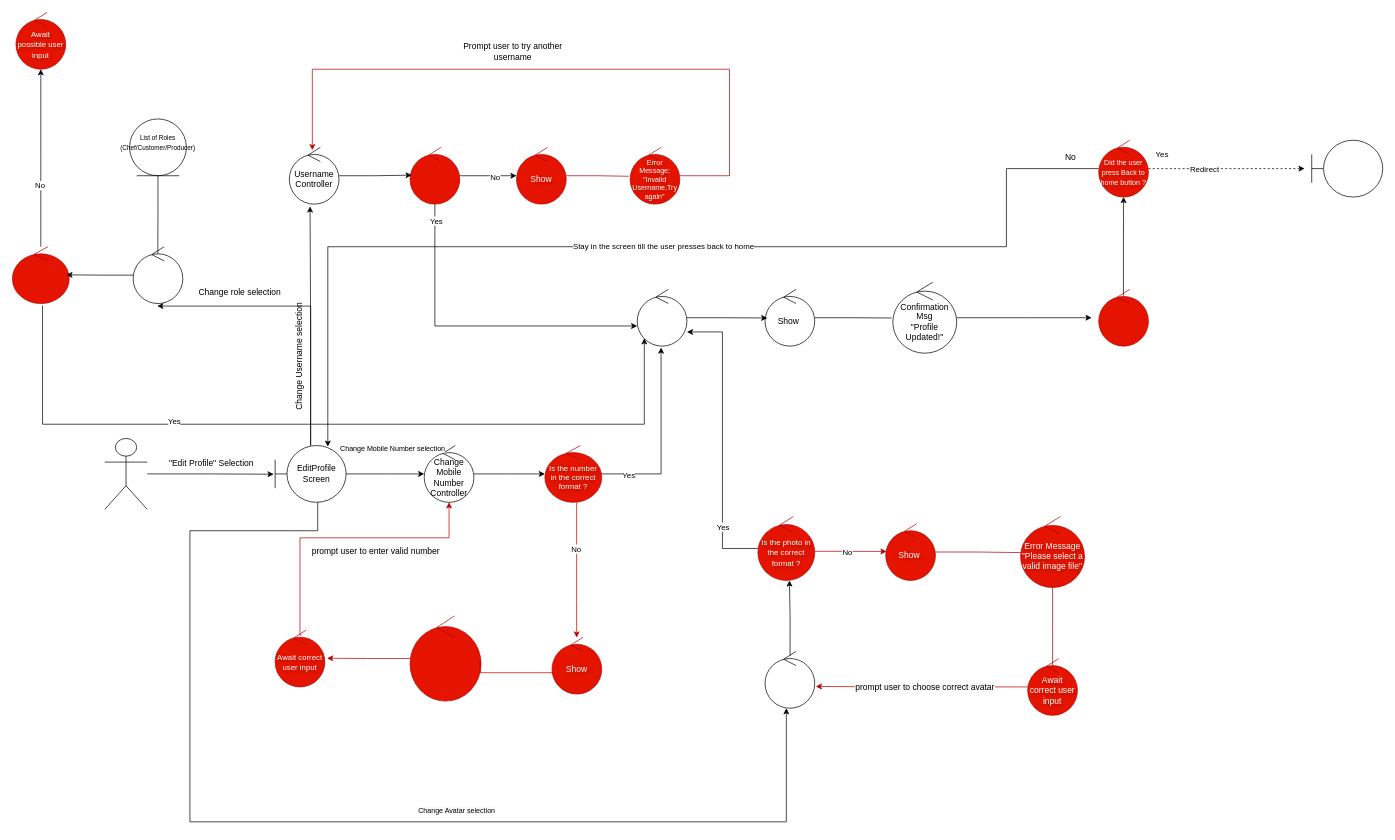
This 1395x840 diagram has some shape labels left out. Here are the shapes that lost their labels. From the top down, the centre of each, then its label:
pixel 434 175: Username complies with rules?
pixel 1347 168: HomeScreen
pixel 40 275: Has the user selected a role?
pixel 157 275: User Role Controller
pixel 662 317: SaveChanges Controller
pixel 1123 317: Await user move
pixel 125 473: User
pixel 445 658: Error Message "Invalid Number, please try again."
pixel 789 679: Avatar Controller
